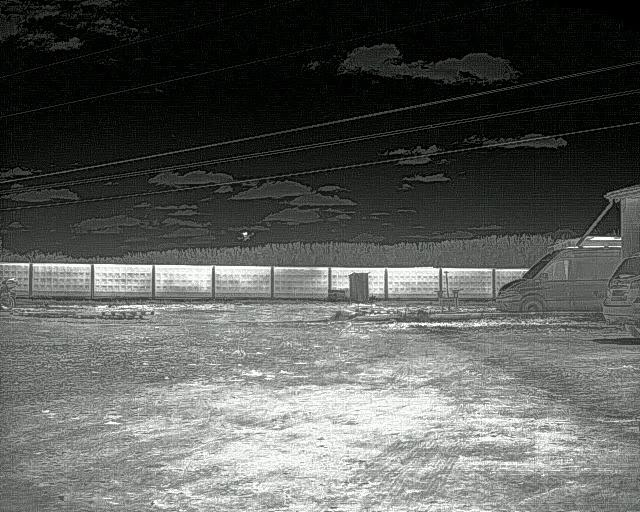drone-thermal: (236, 231, 256, 243)
